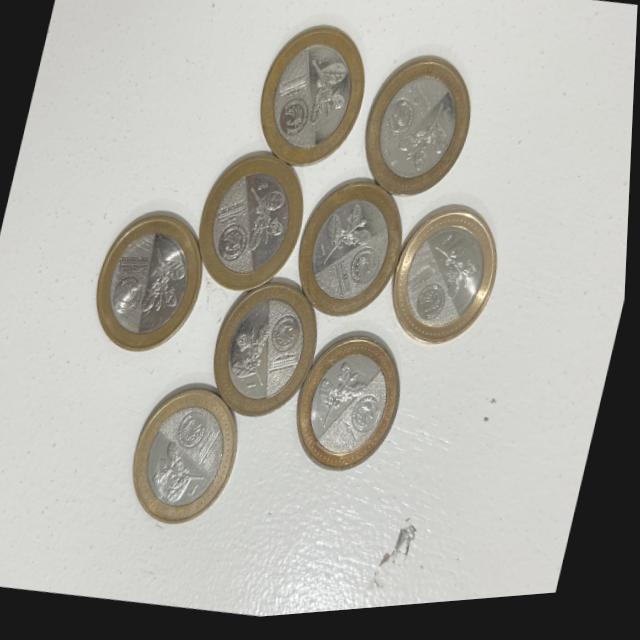20_New_Back: (310, 202, 382, 287), (295, 56, 357, 139), (314, 362, 378, 439), (152, 440, 214, 516), (433, 236, 492, 312), (228, 319, 284, 398), (398, 108, 457, 182), (238, 184, 292, 259), (139, 255, 195, 327)
